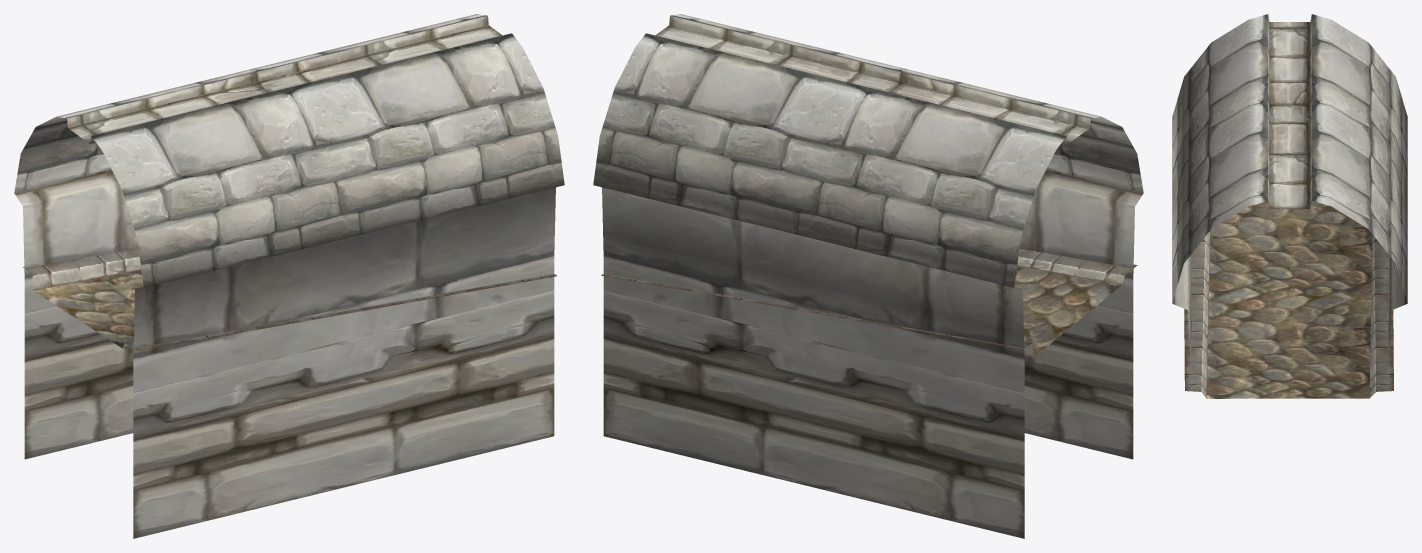
The model's file is stormwind_034.fbx.
3 renders of one model, left to right at view 1: azimuth 30°, elevation 25°; view 2: azimuth 150°, elevation 25°; view 3: azimuth 270°, elevation 25°, orthographic. The views are drawn at different scales.
Visible parts, largest first — view 1: stormwind_034_11, stormwind_034_4, stormwind_034_5, stormwind_034_46, stormwind_034_12; view 2: stormwind_034_11, stormwind_034_4, stormwind_034_5, stormwind_034_46, stormwind_034_12; view 3: stormwind_034_4, stormwind_034_46, stormwind_034_5, stormwind_034_12, stormwind_034_11.
Part boxes in pixels (x1=…): stormwind_034_11: x1=14, y1=169, x2=555, y2=538; stormwind_034_4: x1=14, y1=14, x2=564, y2=287; stormwind_034_5: x1=67, y1=15, x2=502, y2=144; stormwind_034_46: x1=33, y1=270, x2=143, y2=347; stormwind_034_12: x1=23, y1=248, x2=556, y2=350; stormwind_034_11: x1=602, y1=169, x2=1143, y2=538; stormwind_034_4: x1=593, y1=14, x2=1143, y2=287; stormwind_034_5: x1=655, y1=15, x2=1090, y2=144; stormwind_034_46: x1=1014, y1=266, x2=1121, y2=357; stormwind_034_12: x1=601, y1=248, x2=1137, y2=357; stormwind_034_4: x1=1172, y1=14, x2=1407, y2=302; stormwind_034_46: x1=1206, y1=201, x2=1372, y2=398; stormwind_034_5: x1=1268, y1=16, x2=1311, y2=208; stormwind_034_12: x1=1184, y1=230, x2=1393, y2=398; stormwind_034_11: x1=1172, y1=255, x2=1407, y2=375.
Size of the model in its own units: 18.89 by 15.95 by 10.07.
